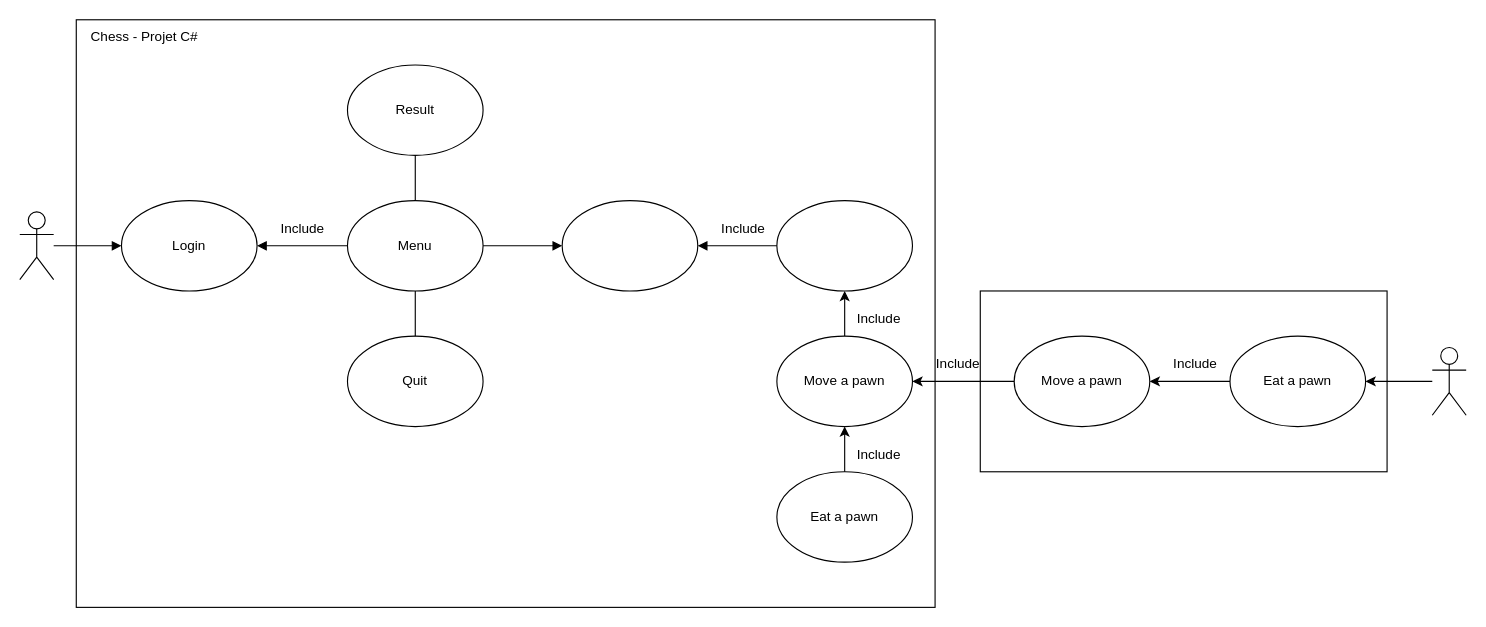
Image size: 1486x627. Some labels were removed from this diagram. The centre of each missing label's shape, as x and y in pixels:
Difficulty: pixel 629 245
IA: pixel 1448 380
Play: pixel 844 245
User: pixel 36 245
